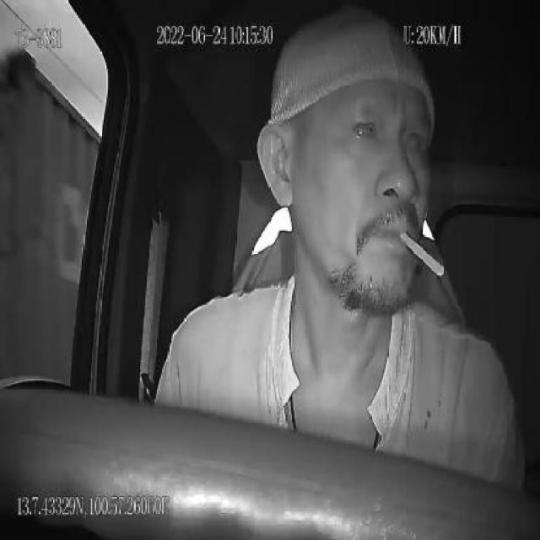smoking: (396, 230, 446, 280)
